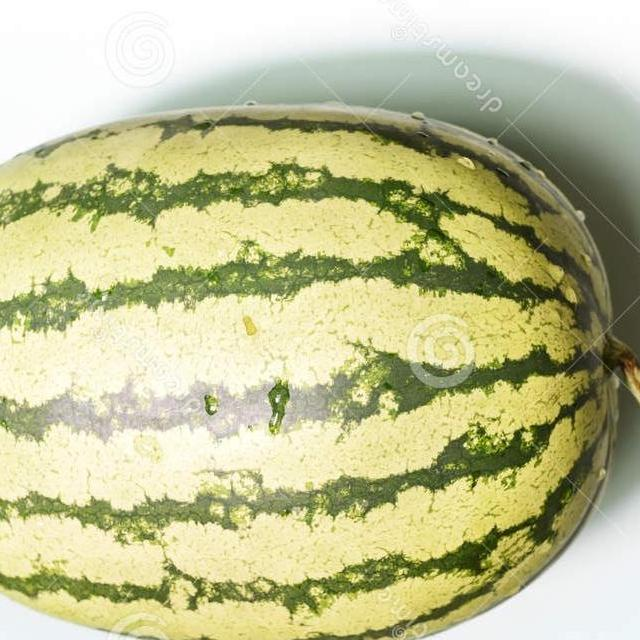watermelon: (0, 137, 636, 618)
